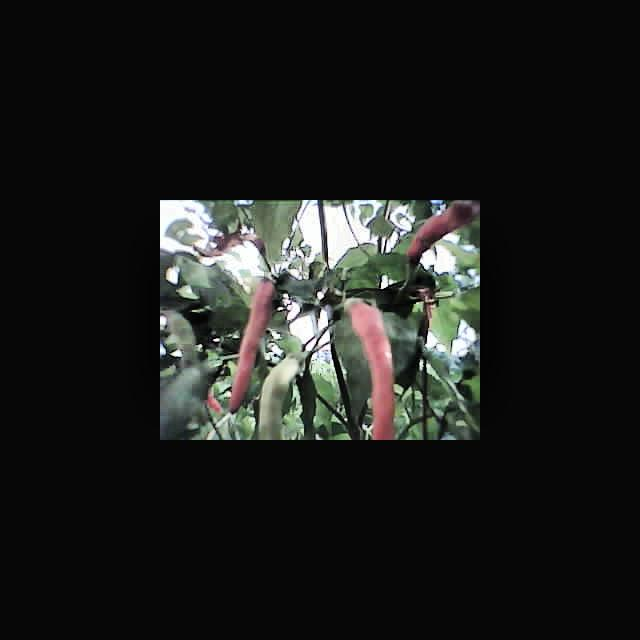Cabai: (344, 297, 401, 437), (232, 275, 268, 378), (409, 202, 460, 263)
